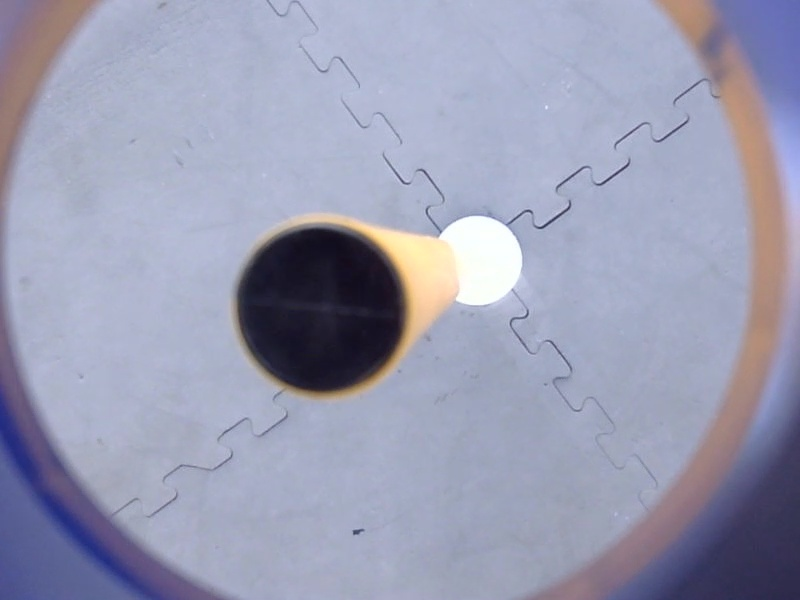tip: (225, 207, 420, 410)
